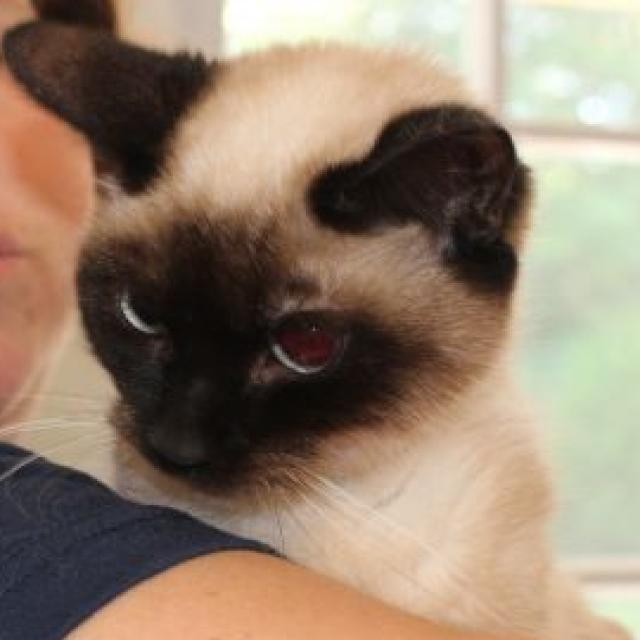Siamese: (0, 13, 640, 640)
